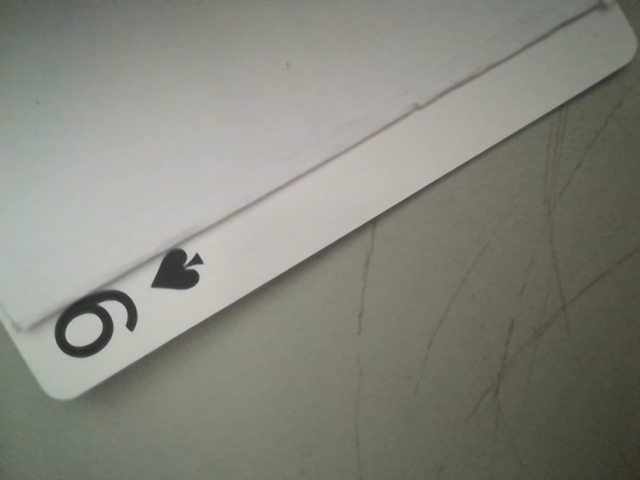ht 9: (27, 244, 211, 379)
